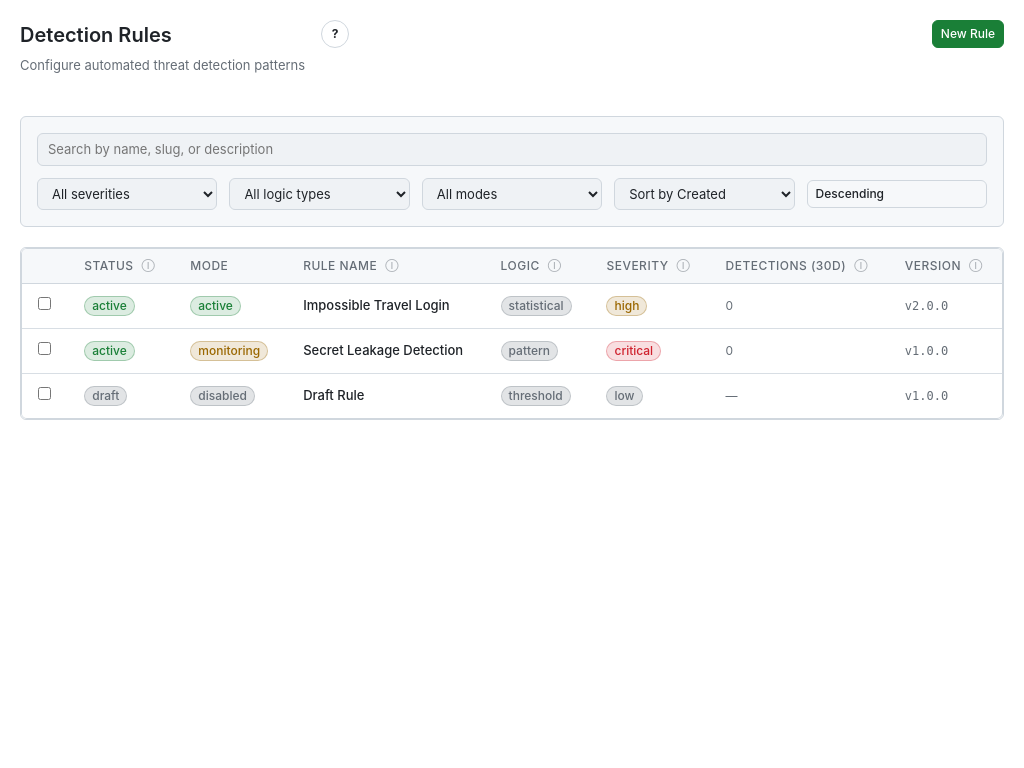
it: RulesPage › opens version history from the version link
Click the link "v2.0.0". click: coordinates (908, 306)
box: x1=905 y1=299 x2=948 y2=313
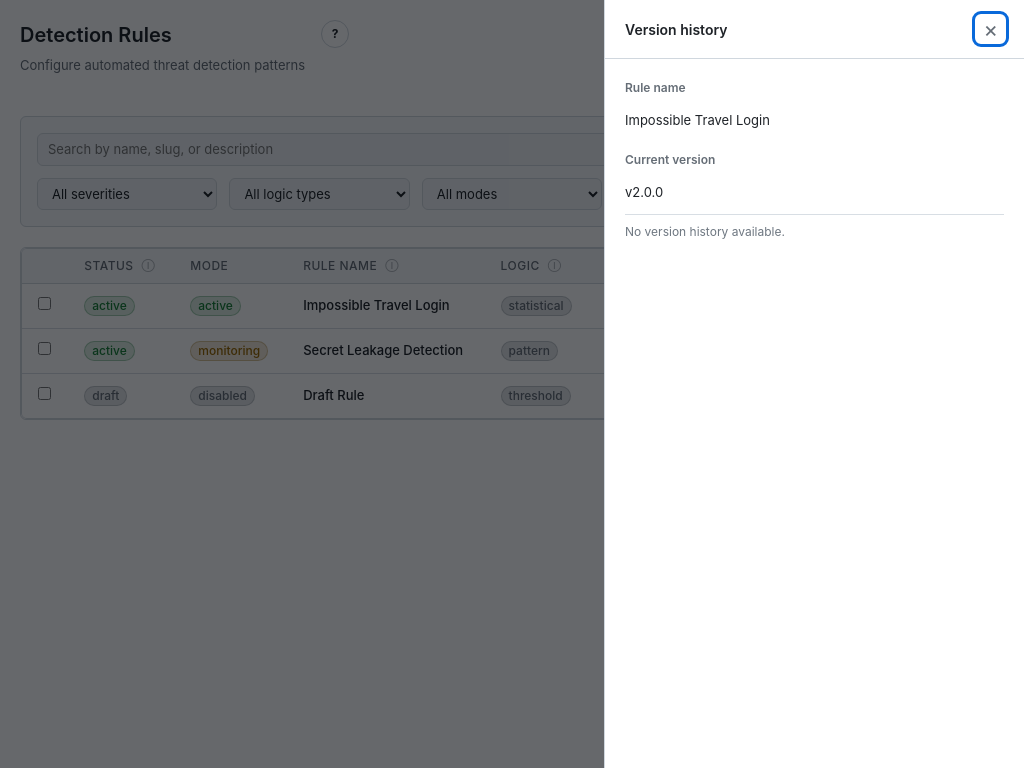
Now the text "Version history" is shown, box x1=625 y1=18 x2=728 y2=40
